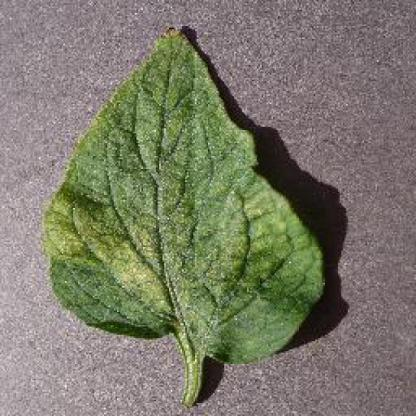Tomato_Spider_Mites: (45, 27, 324, 358)
